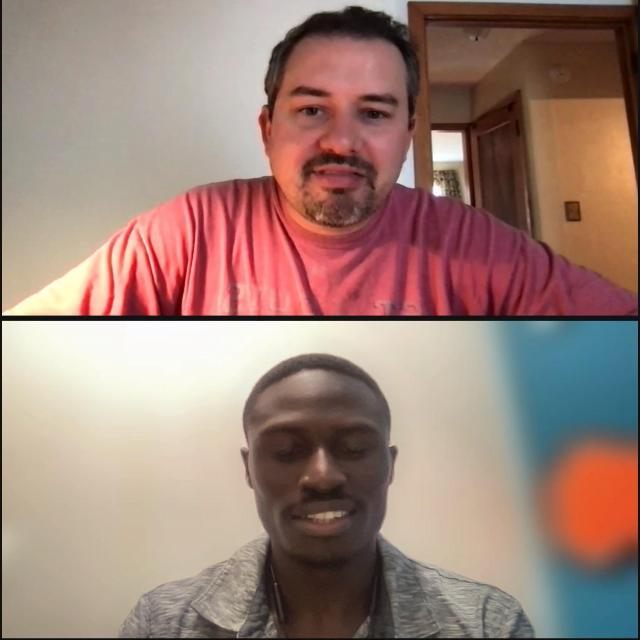face: (258, 8, 416, 230), (238, 354, 397, 568)
